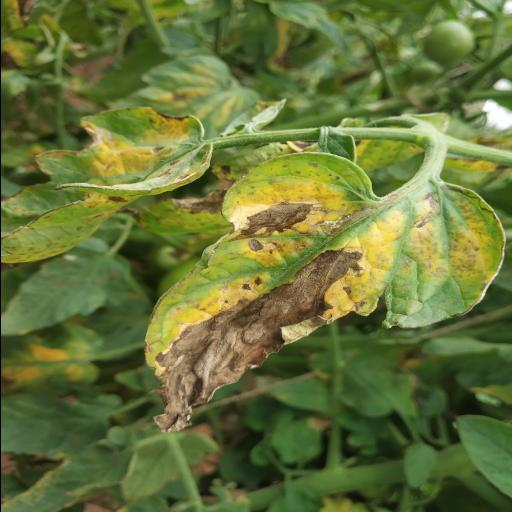Early Blight: (126, 148, 502, 446)
